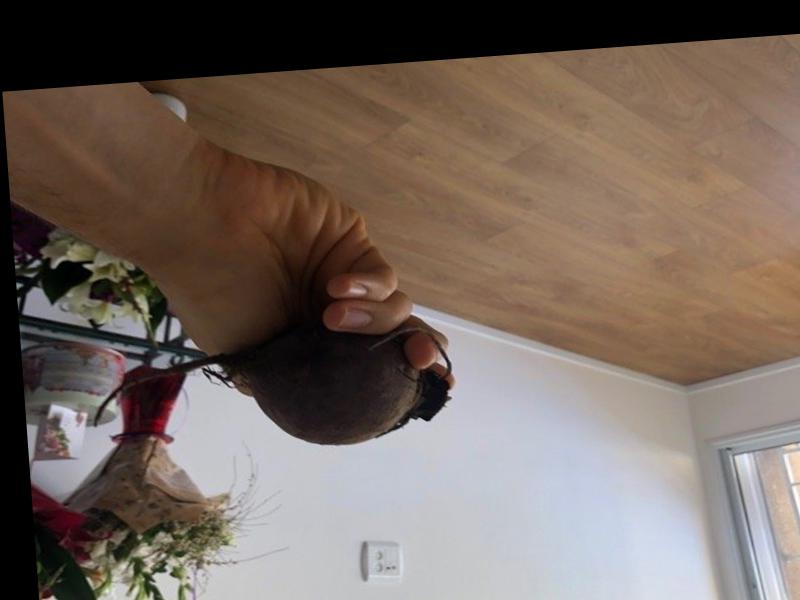Beet: (88, 312, 456, 462)
